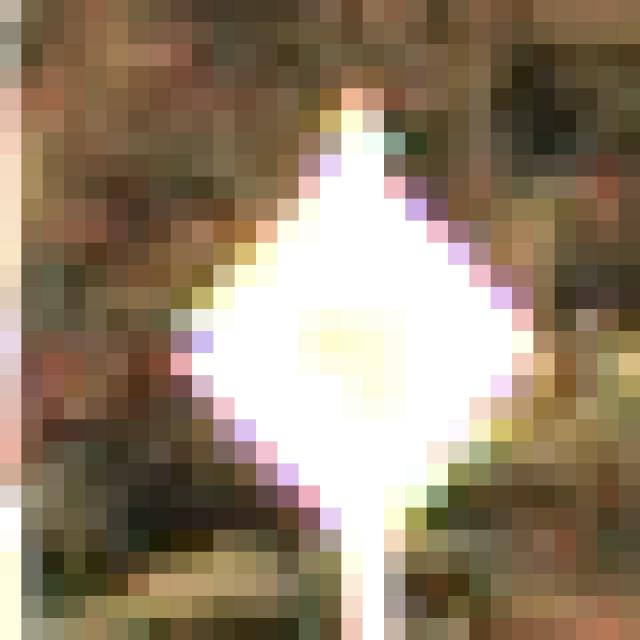Main Road: (129, 111, 513, 531)
